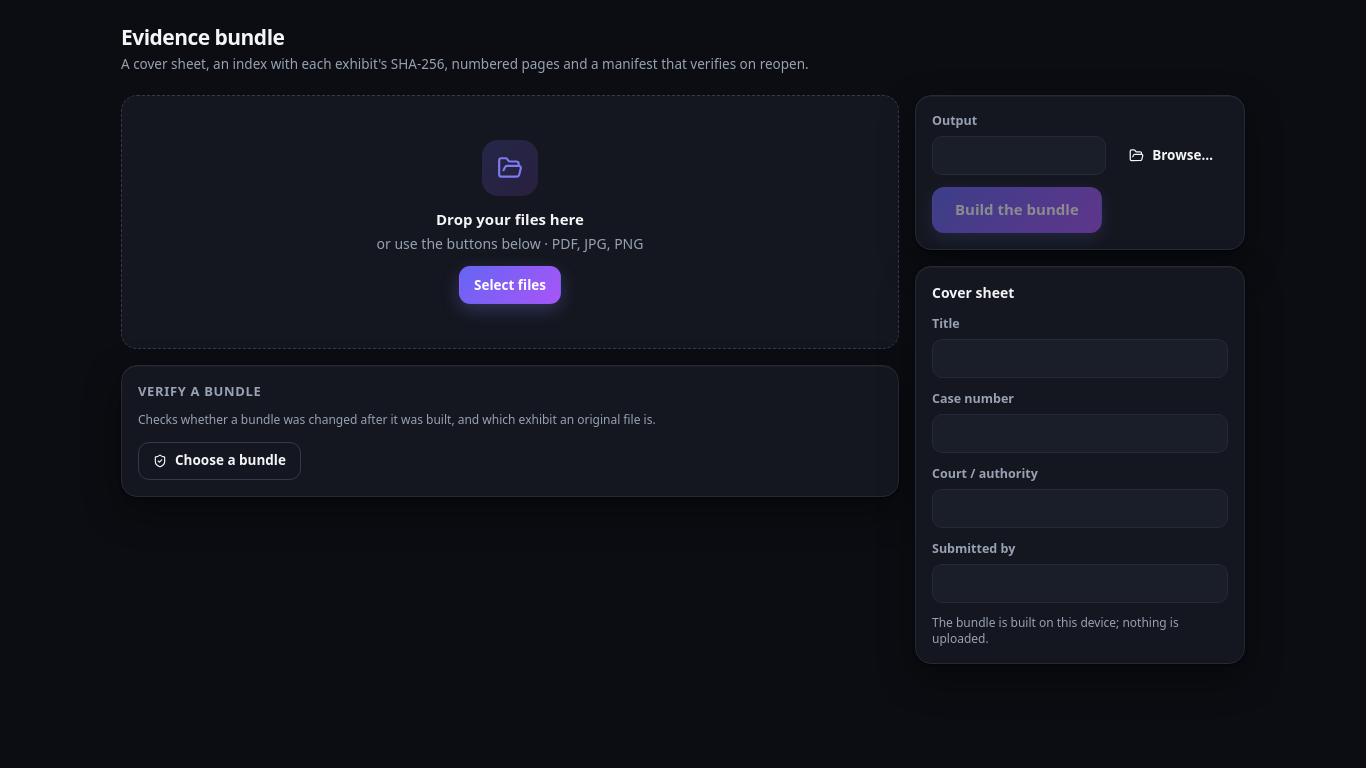
Test: evidence bundle screen › verifies a bundle on reopen and matches the originals to their exhibits
Click the button "Choose a bundle".
click(220, 460)  # box [138,442,301,480]
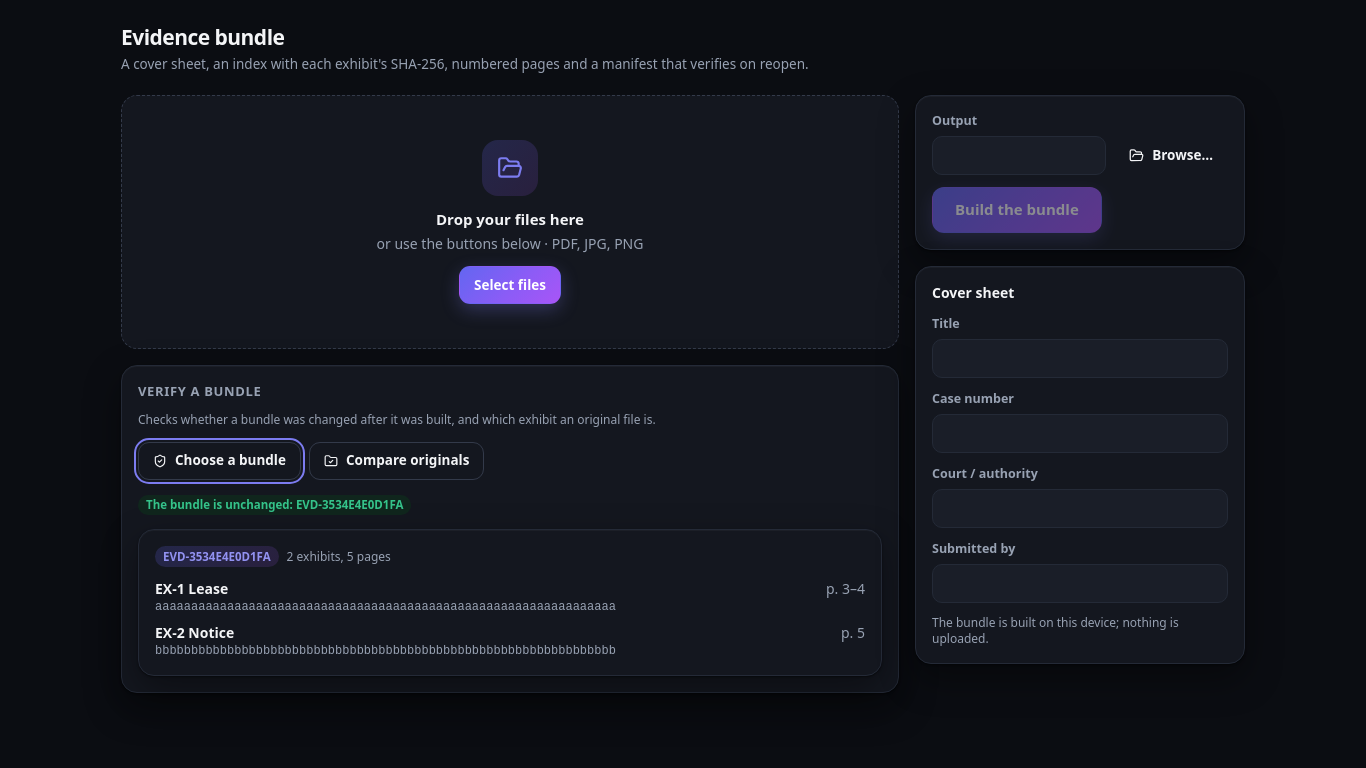
Expected: the text "The bundle is unchanged: EVD-3534E4E0D1FA" is shown, [138,494,412,515]
Click the button "Compare originals".
click(397, 460)  # box [309,442,484,480]
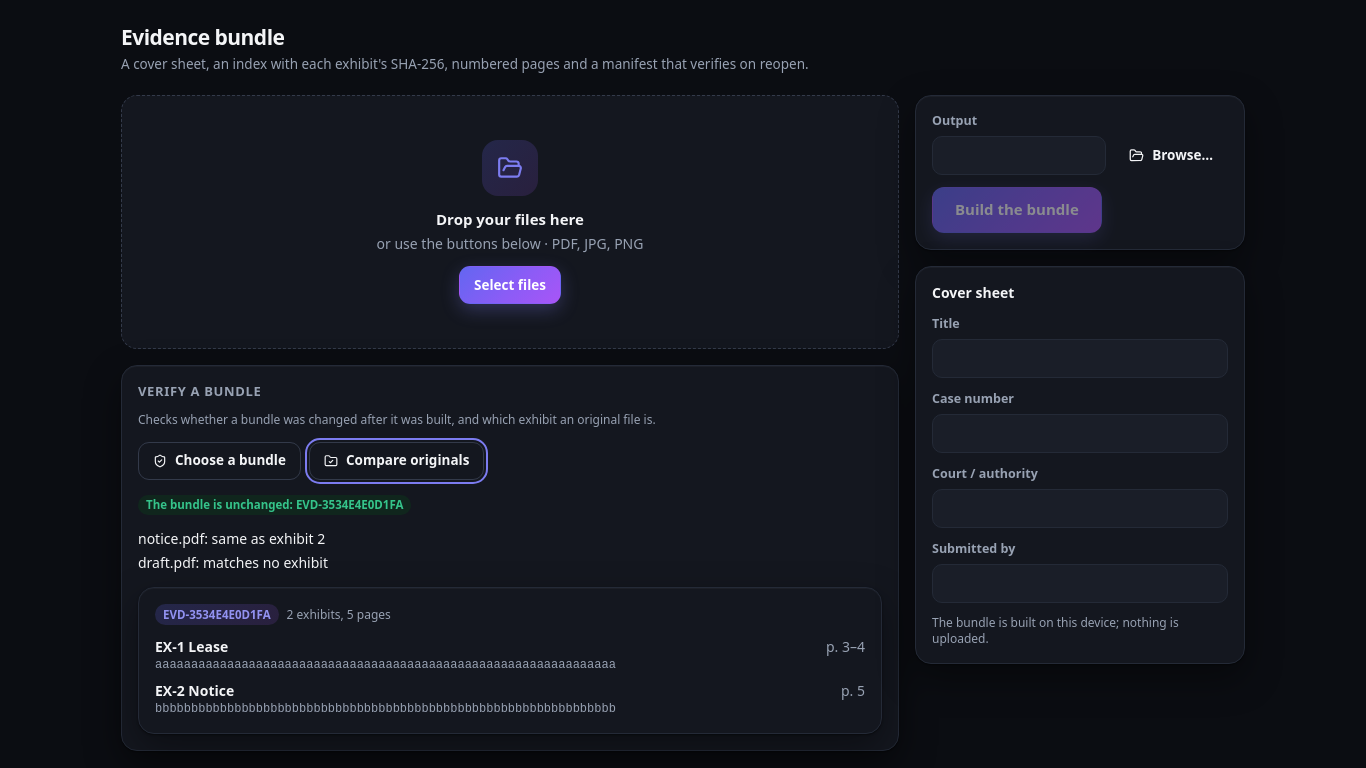
Expected: the list item "notice.pdf: same as exhibit 2" is shown, [138,529,325,548]
Expected: the list item "draft.pdf: matches no exhibit" is shown, [138,553,328,572]
